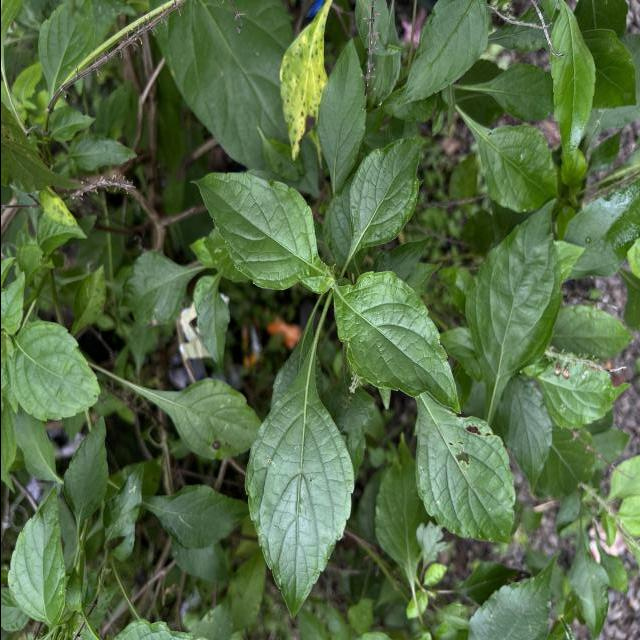Ocimum gratissimum: (241, 318, 355, 620), (462, 194, 564, 416), (330, 268, 462, 418), (186, 169, 328, 292), (412, 391, 517, 550), (339, 134, 424, 280), (127, 375, 260, 464), (393, 0, 489, 110), (7, 318, 102, 424), (3, 483, 68, 632), (546, 1, 598, 174), (314, 36, 366, 200)
